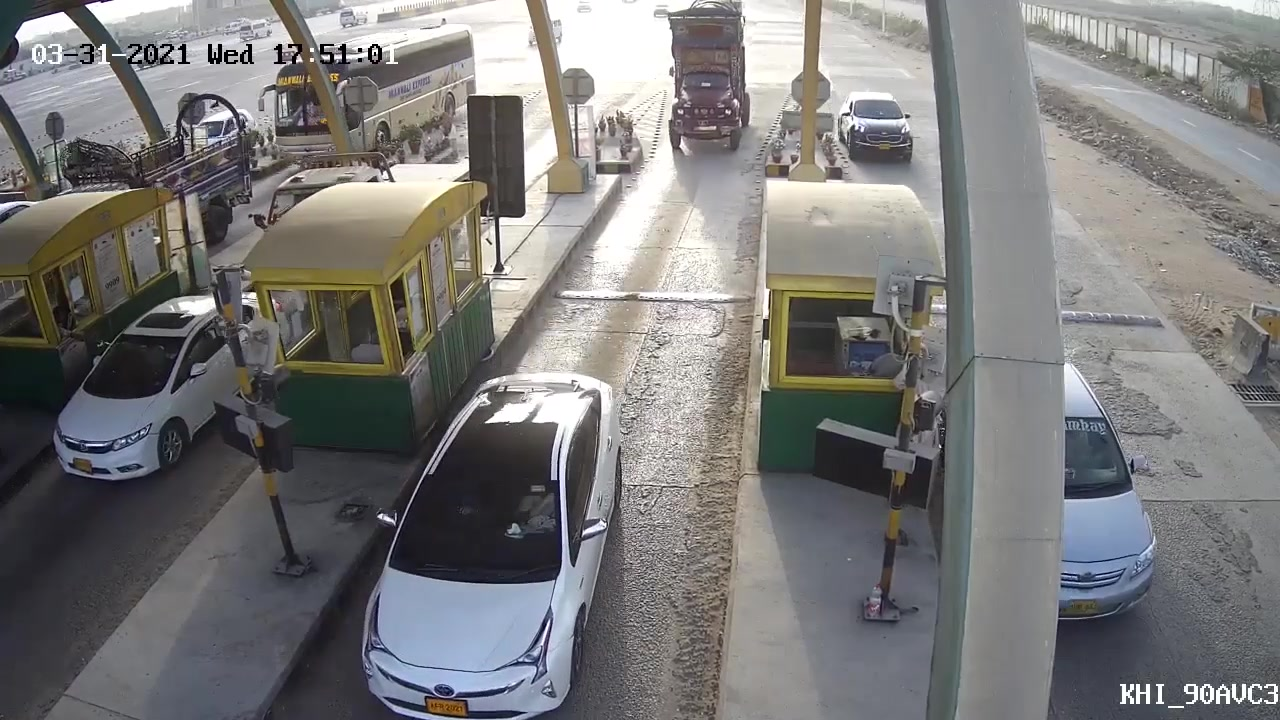F1: (333, 365, 642, 720)
F5: (658, 2, 760, 158)
